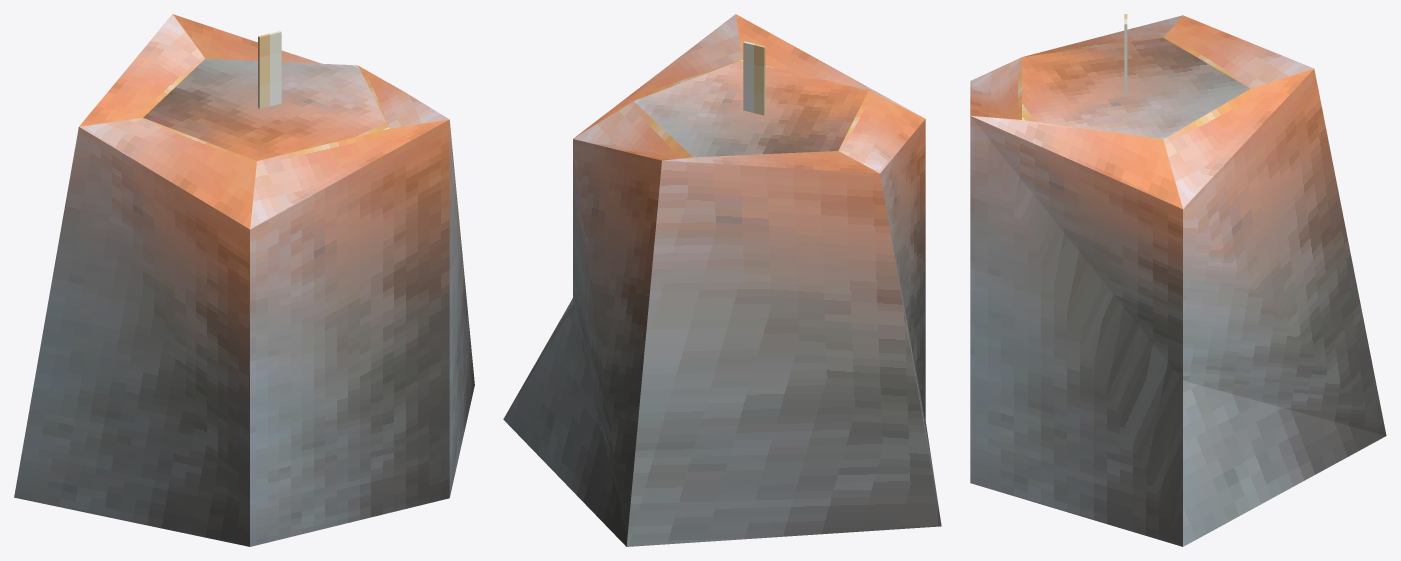
Rendered from candle2.glb.
3 views of the same model, side by side, from view 1: azimuth 30°, elevation 25°; view 2: azimuth 150°, elevation 25°; view 3: azimuth 270°, elevation 25° (orthographic). The views are drawn at different scales.
Visible parts, largest first — view 1: candle2; view 2: candle2; view 3: candle2.
Boxes of the visible parts, bbox=[...] form: candle2: bbox=[14, 14, 474, 546]; candle2: bbox=[503, 14, 941, 546]; candle2: bbox=[970, 14, 1386, 546].
Size of the model in its own units: 0.0543 by 0.0484 by 0.0438.
1 material, 1 textured.
